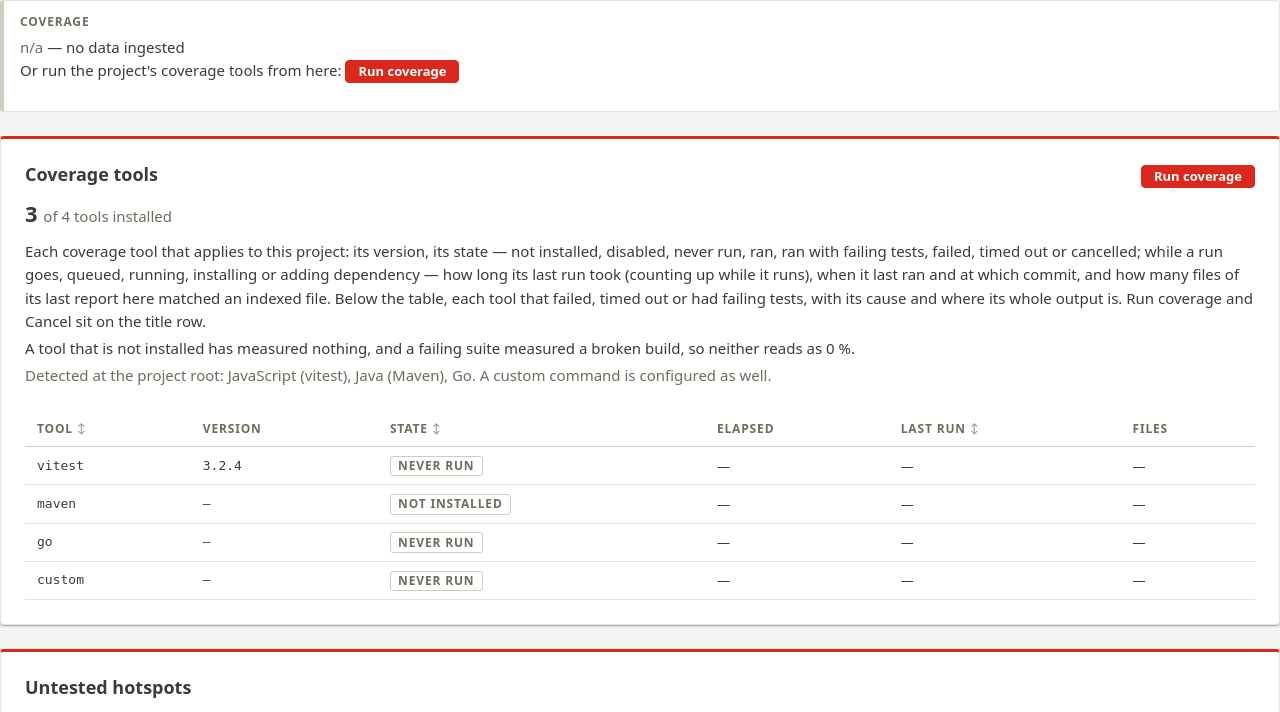
Run coverage on the Coverage page (S-739) › offers Run coverage in the empty state, beside the ingest command
Expected: the text "Or run the project's coverage tools from here:" shows "no data ingested", [43,37,185,57]
What coordinates should you click on to do the following:
click the button "Run coverage" below "— no data ingested"
I would click on:
 (402, 71)
Its box is [346,60,460,83].
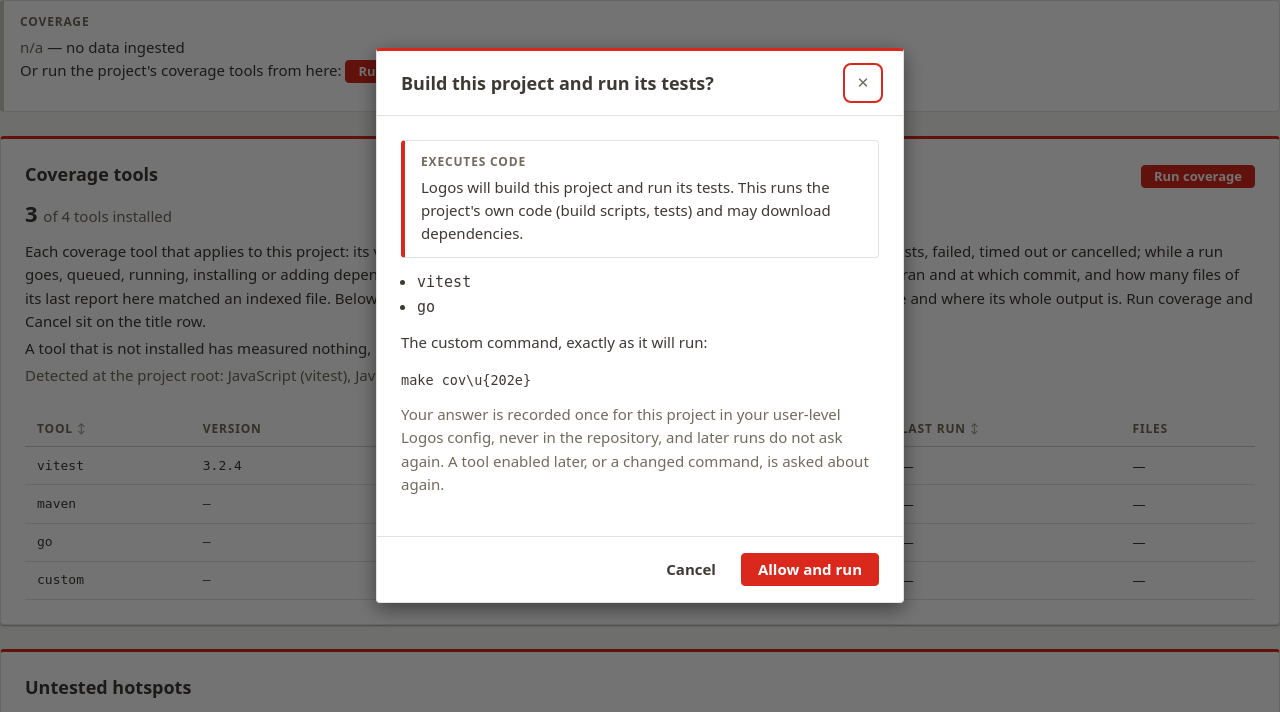
Expected: the dialog "Build this project and run its tests?" is shown, [376,48,904,603]
